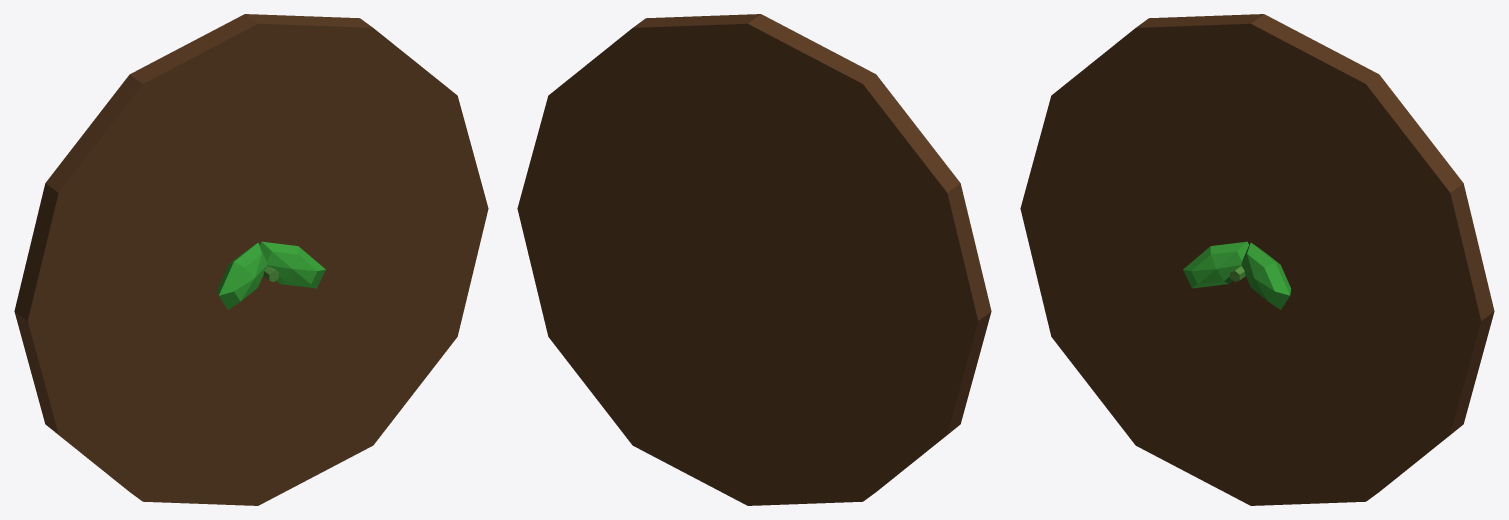
The model's file is stage_1.obj.
3 views of the same model, side by side, from view 1: azimuth 30°, elevation 25°; view 2: azimuth 150°, elevation 25°; view 3: azimuth 330°, elevation 25° (orthographic).
Visible parts, largest first — view 1: Tomato_Stage1; view 2: Tomato_Stage1; view 3: Tomato_Stage1.
Boxes of the visible parts, <box> form: Tomato_Stage1: <box>14,14,488,505</box>; Tomato_Stage1: <box>517,14,991,505</box>; Tomato_Stage1: <box>1020,14,1494,505</box>.
Size of the model in its own units: 1 by 1 by 0.1167.
